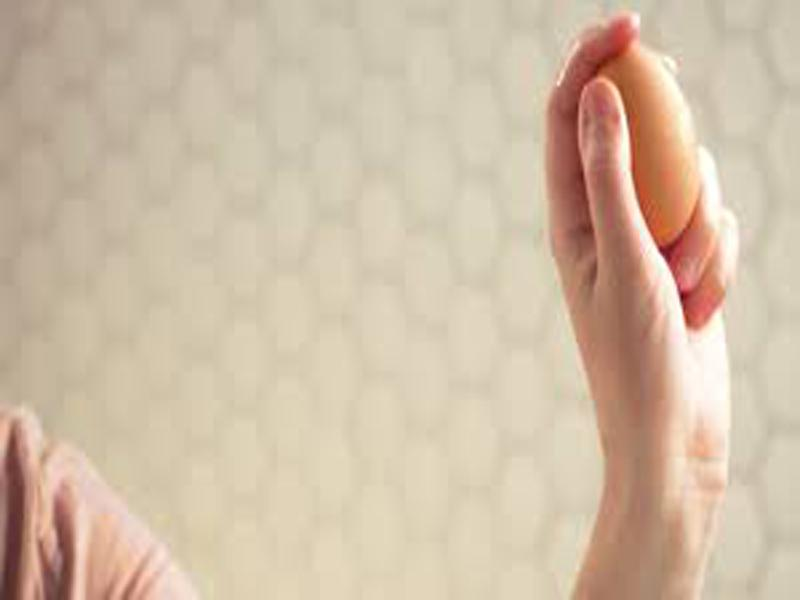Eggs: (587, 46, 704, 246)
